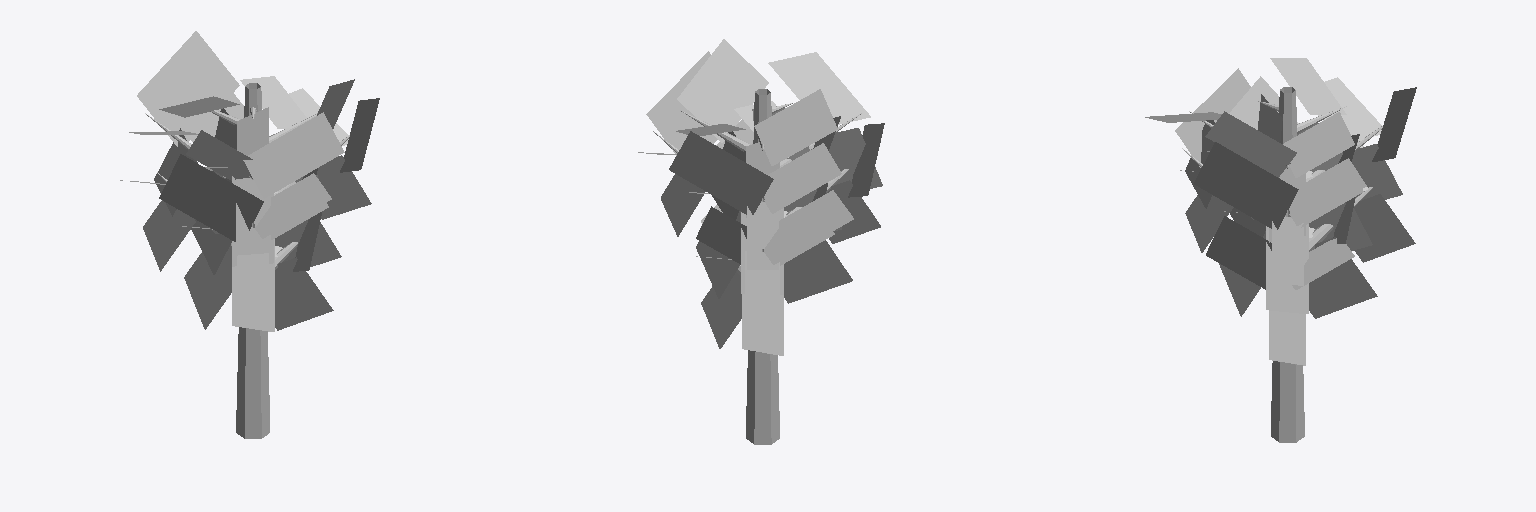
3 views of the same model, side by side, from view 1: azimuth 30°, elevation 25°; view 2: azimuth 150°, elevation 25°; view 3: azimuth 270°, elevation 25° (orthographic).
Parts seen in each view (by area): view 1: plant; view 2: plant; view 3: plant.
Part boxes in pixels (x1,y1,x2,y2): plant: (120,31,379,438); plant: (638,39,884,444); plant: (1145,58,1416,442).
Bounding box in the file's own units: 10.26 × 15.57 × 10.77.